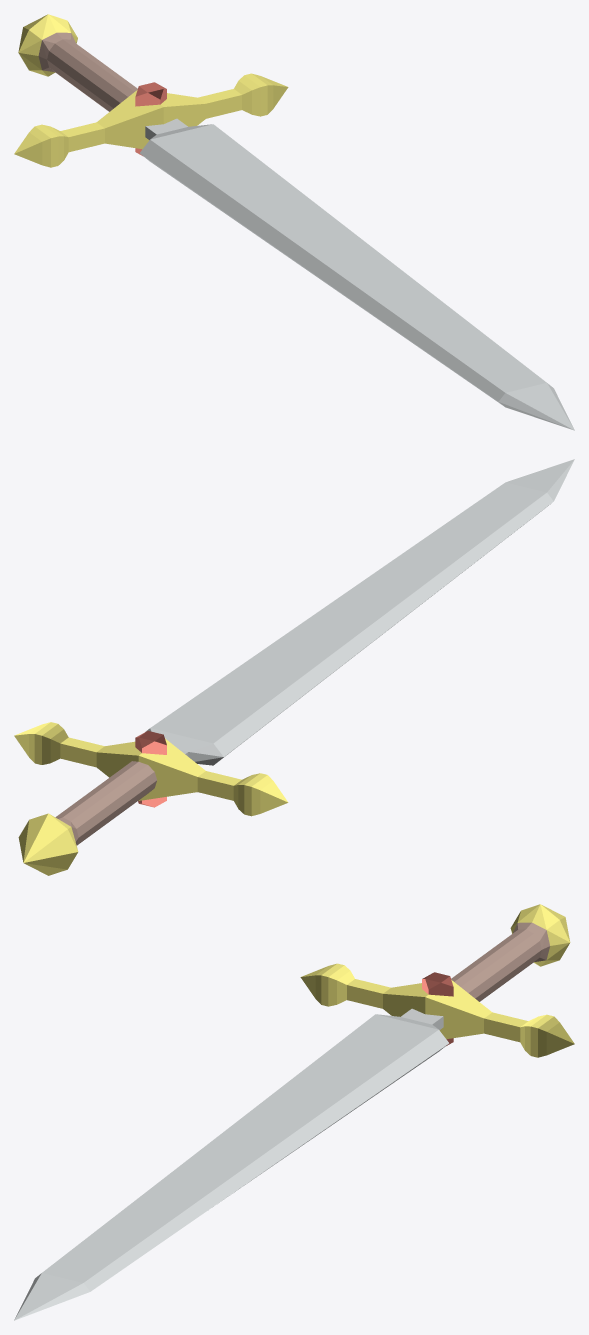
Rendered from Sword.fbx.
The picture shows the model from 3 angles, top to bottom: view 1: azimuth 30°, elevation 25°; view 2: azimuth 150°, elevation 25°; view 3: azimuth 330°, elevation 25°; orthographic projection.
Parts seen in each view (by area): view 1: group306679369; view 2: group306679369; view 3: group306679369.
Part boxes in pixels (x1=…): group306679369: x1=14, y1=14, x2=574, y2=430; group306679369: x1=14, y1=459, x2=574, y2=875; group306679369: x1=14, y1=904, x2=574, y2=1320.
Size of the model in its own units: 66.86 by 15.43 by 233.
